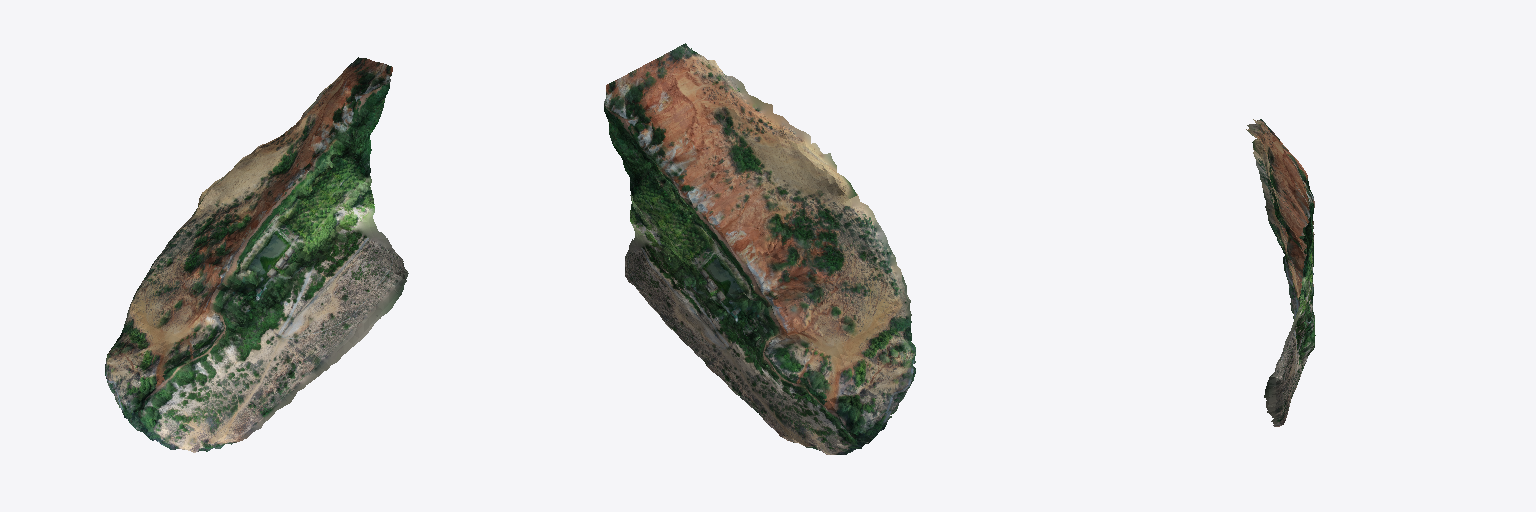
3 renders of one model, left to right at view 1: azimuth 30°, elevation 25°; view 2: azimuth 150°, elevation 25°; view 3: azimuth 270°, elevation 25°, orthographic.
Bounding box in the file's own units: 352 × 412 × 72.96.
1 materials, 1 textured.